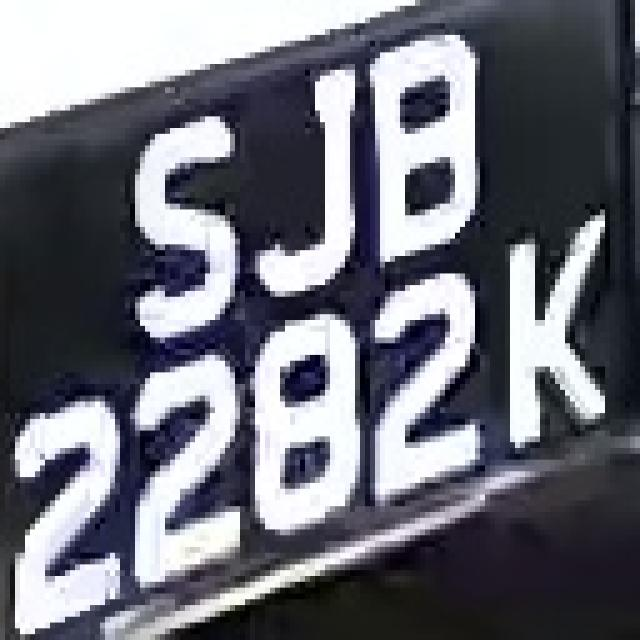2: (115, 355, 240, 593), (355, 280, 485, 500), (0, 4, 1, 8)
8: (230, 326, 380, 564)
B: (340, 18, 490, 268)
J: (230, 53, 370, 280)
K: (490, 227, 620, 454)
S: (95, 93, 260, 355)
